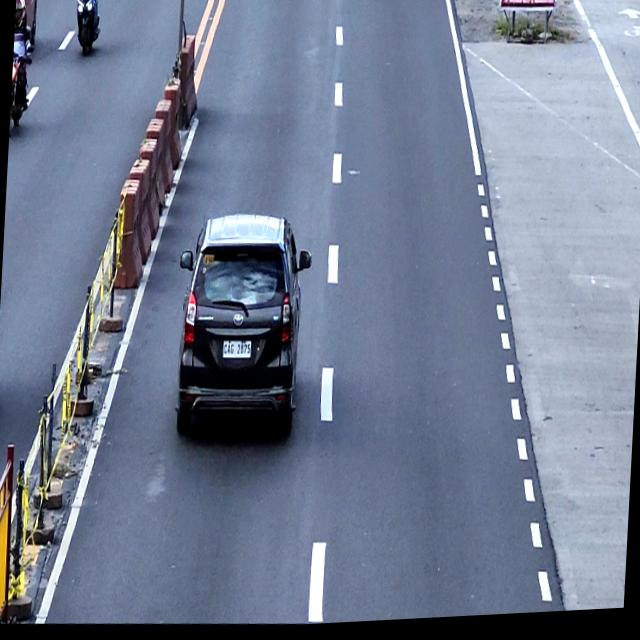Car: (169, 210, 315, 456)
License-Plate: (222, 341, 252, 363)
Motorcycle: (9, 43, 35, 139), (70, 0, 101, 58)
